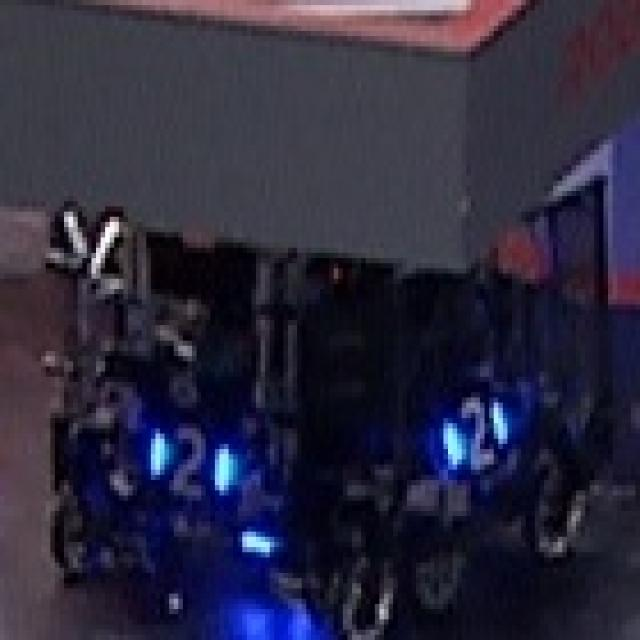B2: (132, 411, 238, 504), (425, 380, 512, 482)
